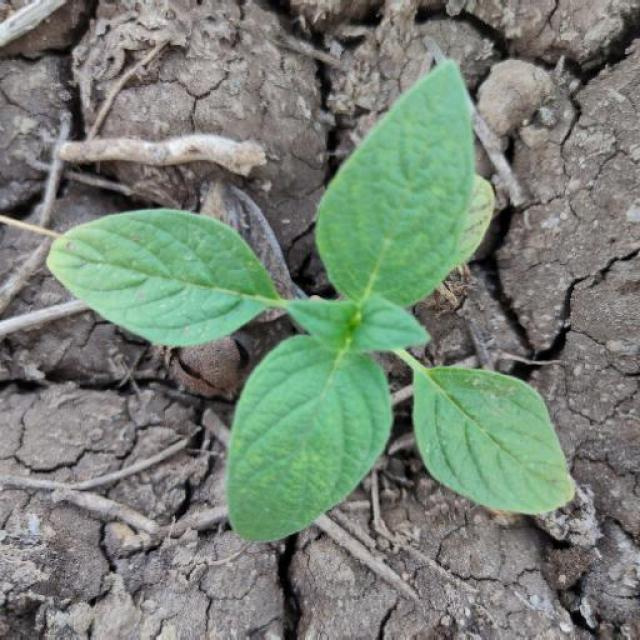crop: (46, 55, 575, 546)
